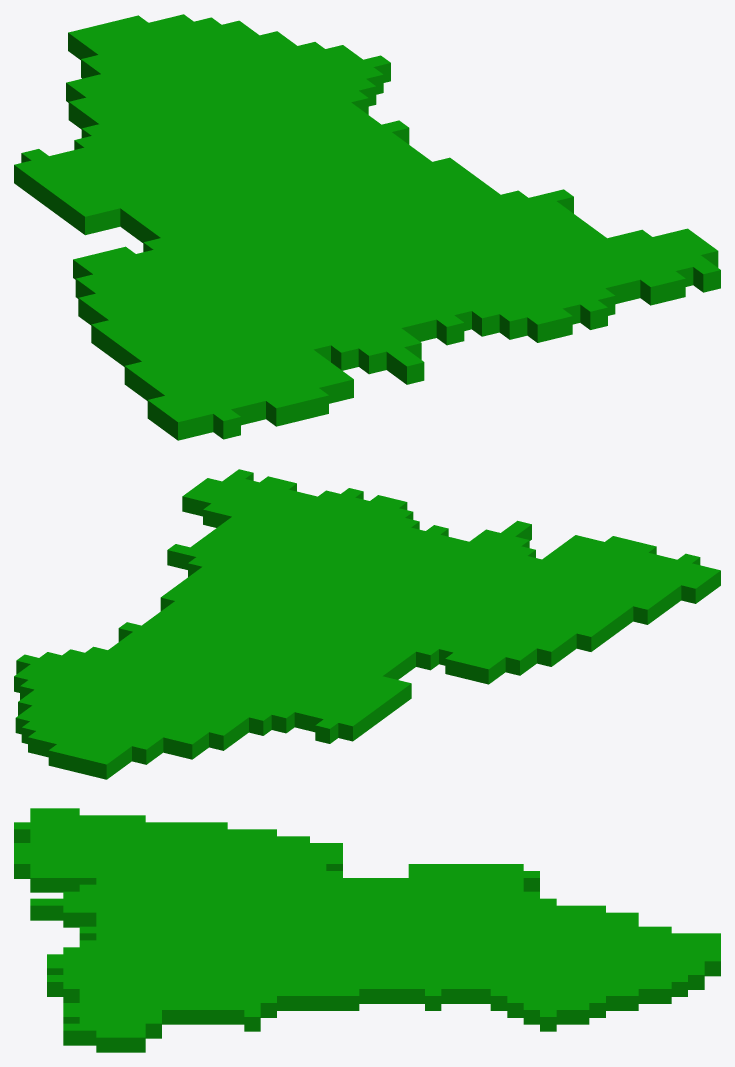
File: Kelantan.fbx
The picture shows the model from 3 angles, top to bottom: view 1: azimuth 30°, elevation 25°; view 2: azimuth 150°, elevation 25°; view 3: azimuth 270°, elevation 25°; orthographic projection. The views are drawn at different scales.
Parts seen in each view (by area): view 1: Kelantan; view 2: Kelantan; view 3: Kelantan.
Part boxes in pixels (box(x1,y1,x2,y2)): Kelantan: box(14, 14, 720, 440); Kelantan: box(14, 469, 720, 779); Kelantan: box(14, 808, 720, 1052).
Size of the model in its own units: 33 by 1 by 43.
1 material, 1 textured.
